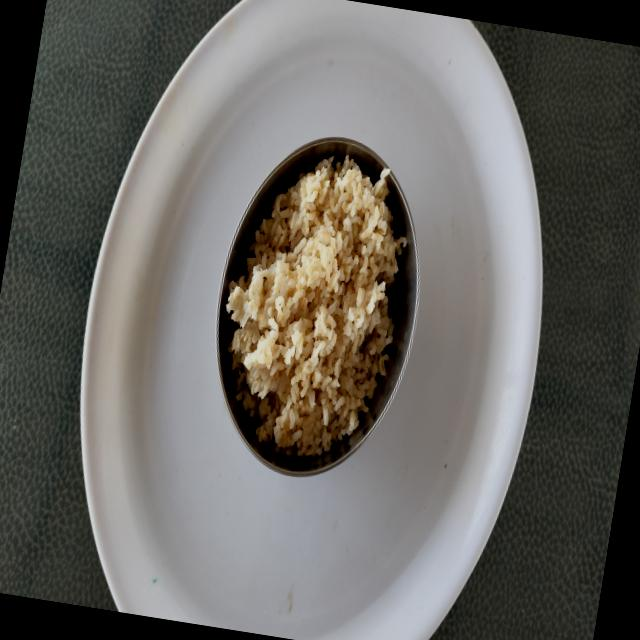brown-rice: (227, 157, 406, 457)
